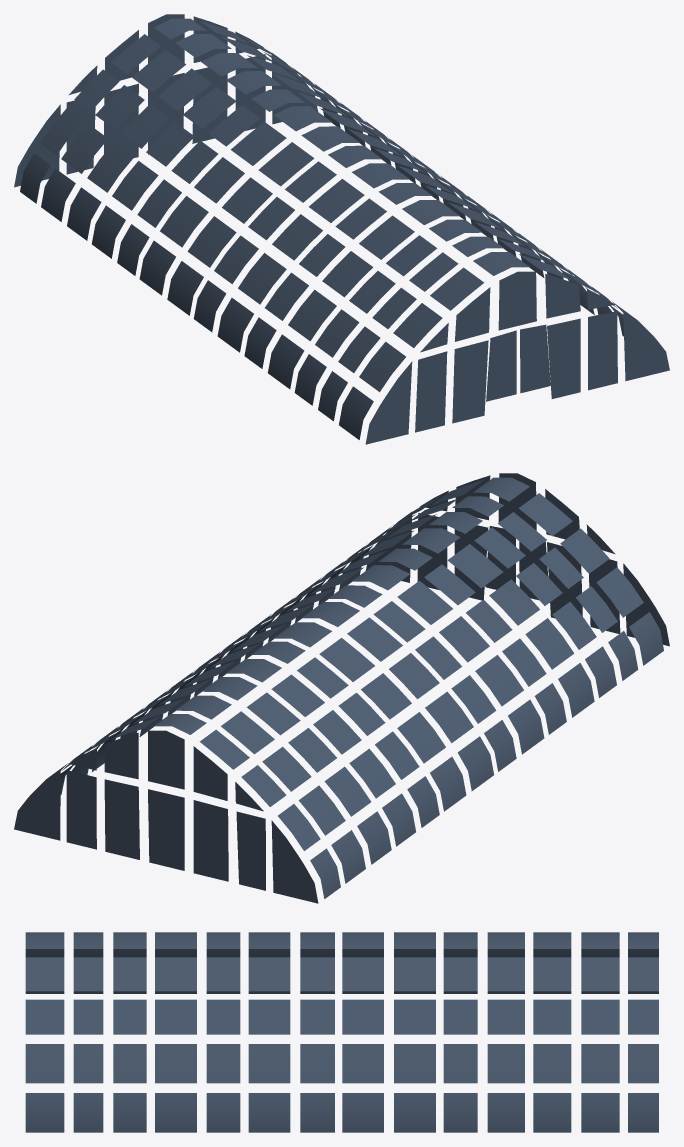
File: Green House_Glass.fbx
The picture shows the model from 3 angles, top to bottom: view 1: azimuth 30°, elevation 25°; view 2: azimuth 150°, elevation 25°; view 3: azimuth 270°, elevation 25°; orthographic projection. The views are drawn at different scales.
Visible parts, largest first — view 1: Green House_Glass; view 2: Green House_Glass; view 3: Green House_Glass.
Part boxes in pixels (left/top/right/bottom): Green House_Glass: left=14, top=14, right=669, bottom=444; Green House_Glass: left=14, top=473, right=669, bottom=903; Green House_Glass: left=25, top=932, right=658, bottom=1132.
Size of the model in its own units: 1007 by 430 by 2014.
